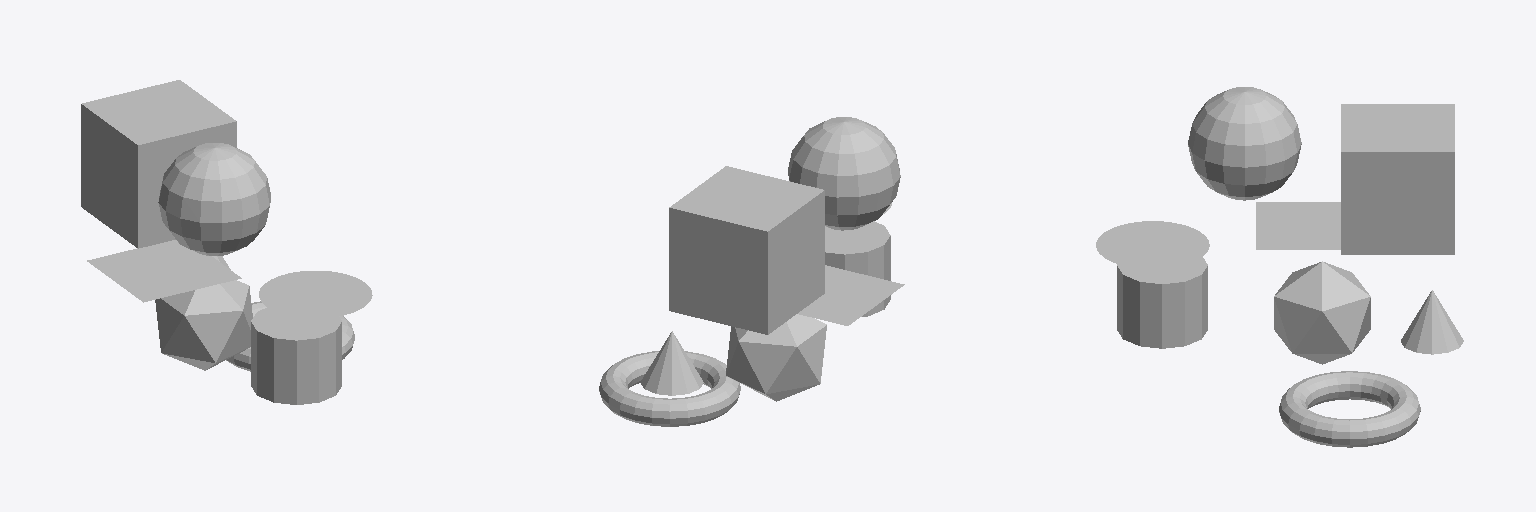
The model's file is multiple.obj.
The picture shows the model from 3 angles: view 1: azimuth 30°, elevation 25°; view 2: azimuth 150°, elevation 25°; view 3: azimuth 270°, elevation 25°; orthographic projection.
Parts seen in each view (by area): view 1: Cube, Sphere, Cylinder, Icosphere, Plane, Circle, Torus; view 2: Cube, Sphere, Icosphere, Torus, Plane, Cylinder, Cone; view 3: Cube, Sphere, Icosphere, Torus, Cylinder, Circle, Plane, Cone.
Boxes of the visible parts, box(x1,y1,x2,y2) form: Cube: box(81, 80, 236, 248); Sphere: box(158, 143, 270, 255); Cylinder: box(251, 307, 341, 404); Icosphere: box(155, 280, 252, 370); Plane: box(87, 240, 241, 302); Circle: box(259, 271, 372, 318); Torus: box(226, 301, 354, 371); Cube: box(669, 166, 824, 334); Sphere: box(788, 117, 900, 230); Icosphere: box(726, 314, 826, 401); Torus: box(599, 351, 740, 426); Plane: box(798, 265, 904, 325); Cylinder: box(825, 221, 890, 316); Cone: box(640, 331, 703, 395); Cube: box(1341, 104, 1454, 254); Sphere: box(1188, 87, 1301, 200); Icosphere: box(1274, 261, 1370, 364); Torus: box(1279, 371, 1420, 447); Cylinder: box(1117, 257, 1207, 348); Circle: box(1096, 221, 1209, 268); Plane: box(1256, 202, 1340, 249); Cone: box(1401, 290, 1463, 354).
Size of the model in its own units: 5.06 by 5.24 by 6.46.